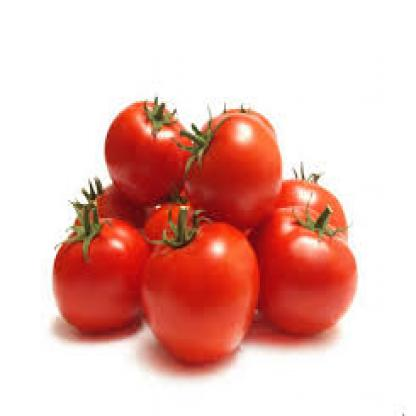Fresh: (34, 67, 377, 390)
